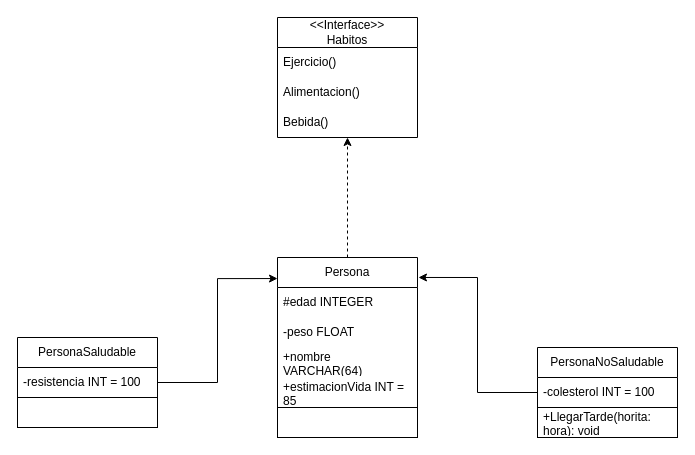
This 695x455 diagram has some shape labels left out. Each missing label, with the centre of its shape:
+Depestarse() : void: the point at 347,422
+Madrugar(hora: INTEGER) : BOOLEAN: the point at 87,412
